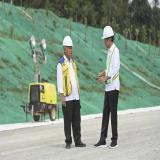Helmet: (101, 24, 115, 40), (62, 36, 74, 49)
Vest: (56, 55, 80, 97), (106, 48, 120, 82)
